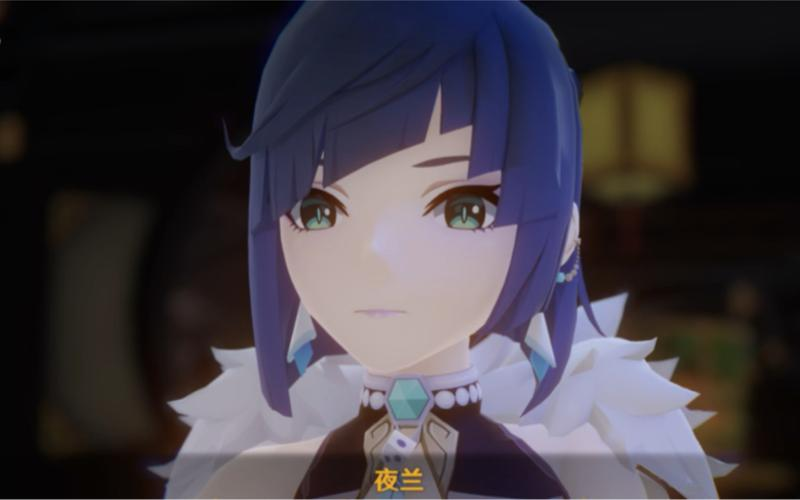夜兰: (169, 2, 719, 500)
